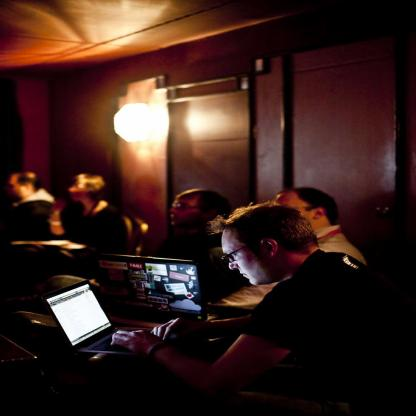board: (94, 253, 248, 328), (36, 280, 155, 356)
